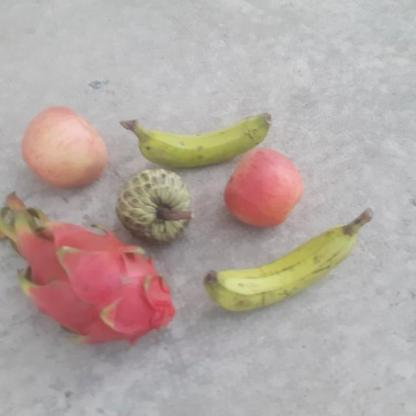annona: (116, 168, 193, 246)
apple: (19, 105, 110, 190), (223, 146, 306, 228)
banana: (201, 224, 361, 312), (124, 111, 272, 168)
pitaya: (3, 217, 175, 345)
